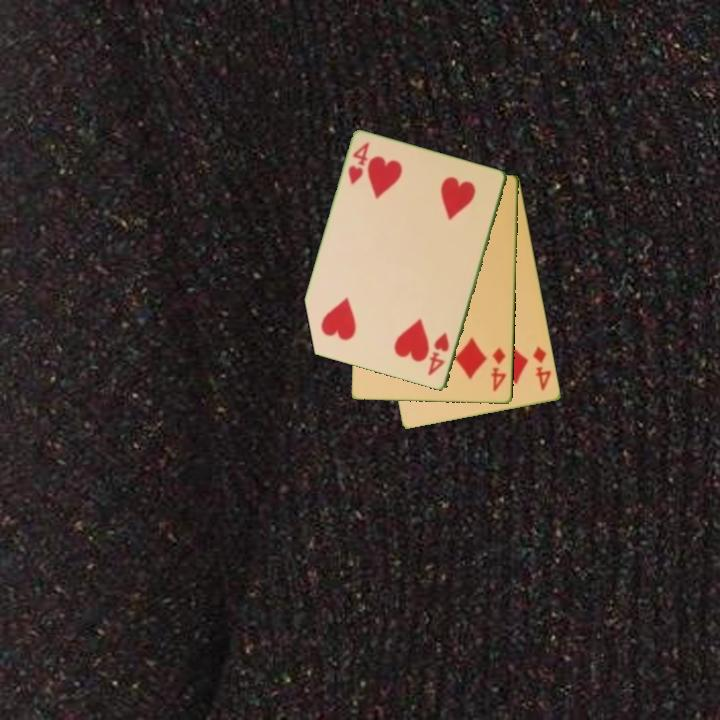4d: (530, 343, 554, 394), (488, 344, 509, 394)
4h: (424, 330, 452, 379), (345, 139, 373, 188)
